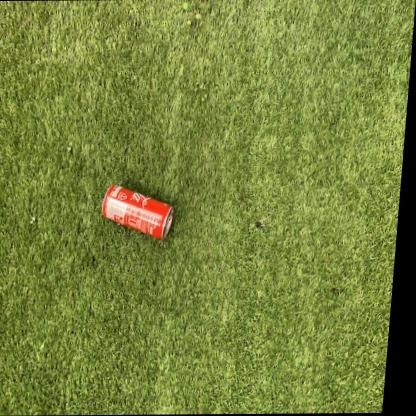trash: (102, 185, 173, 238)
